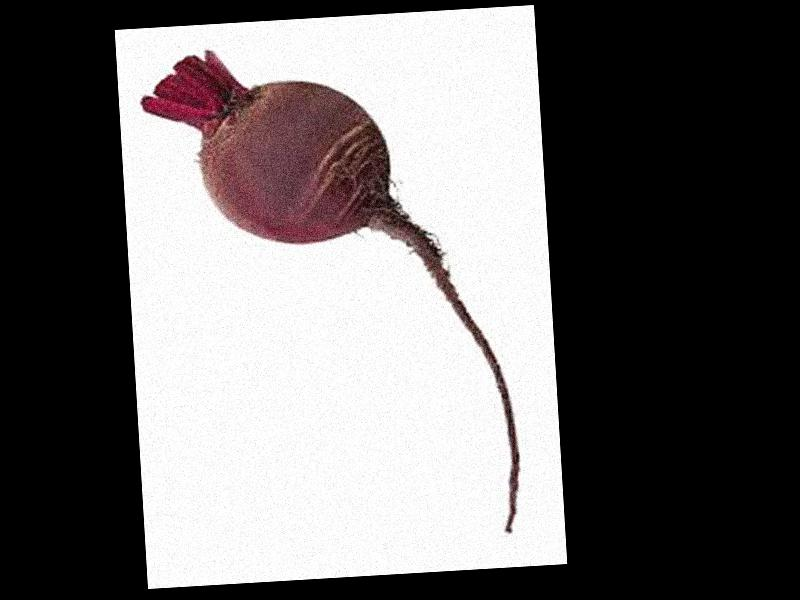Beet: (137, 35, 524, 557)
